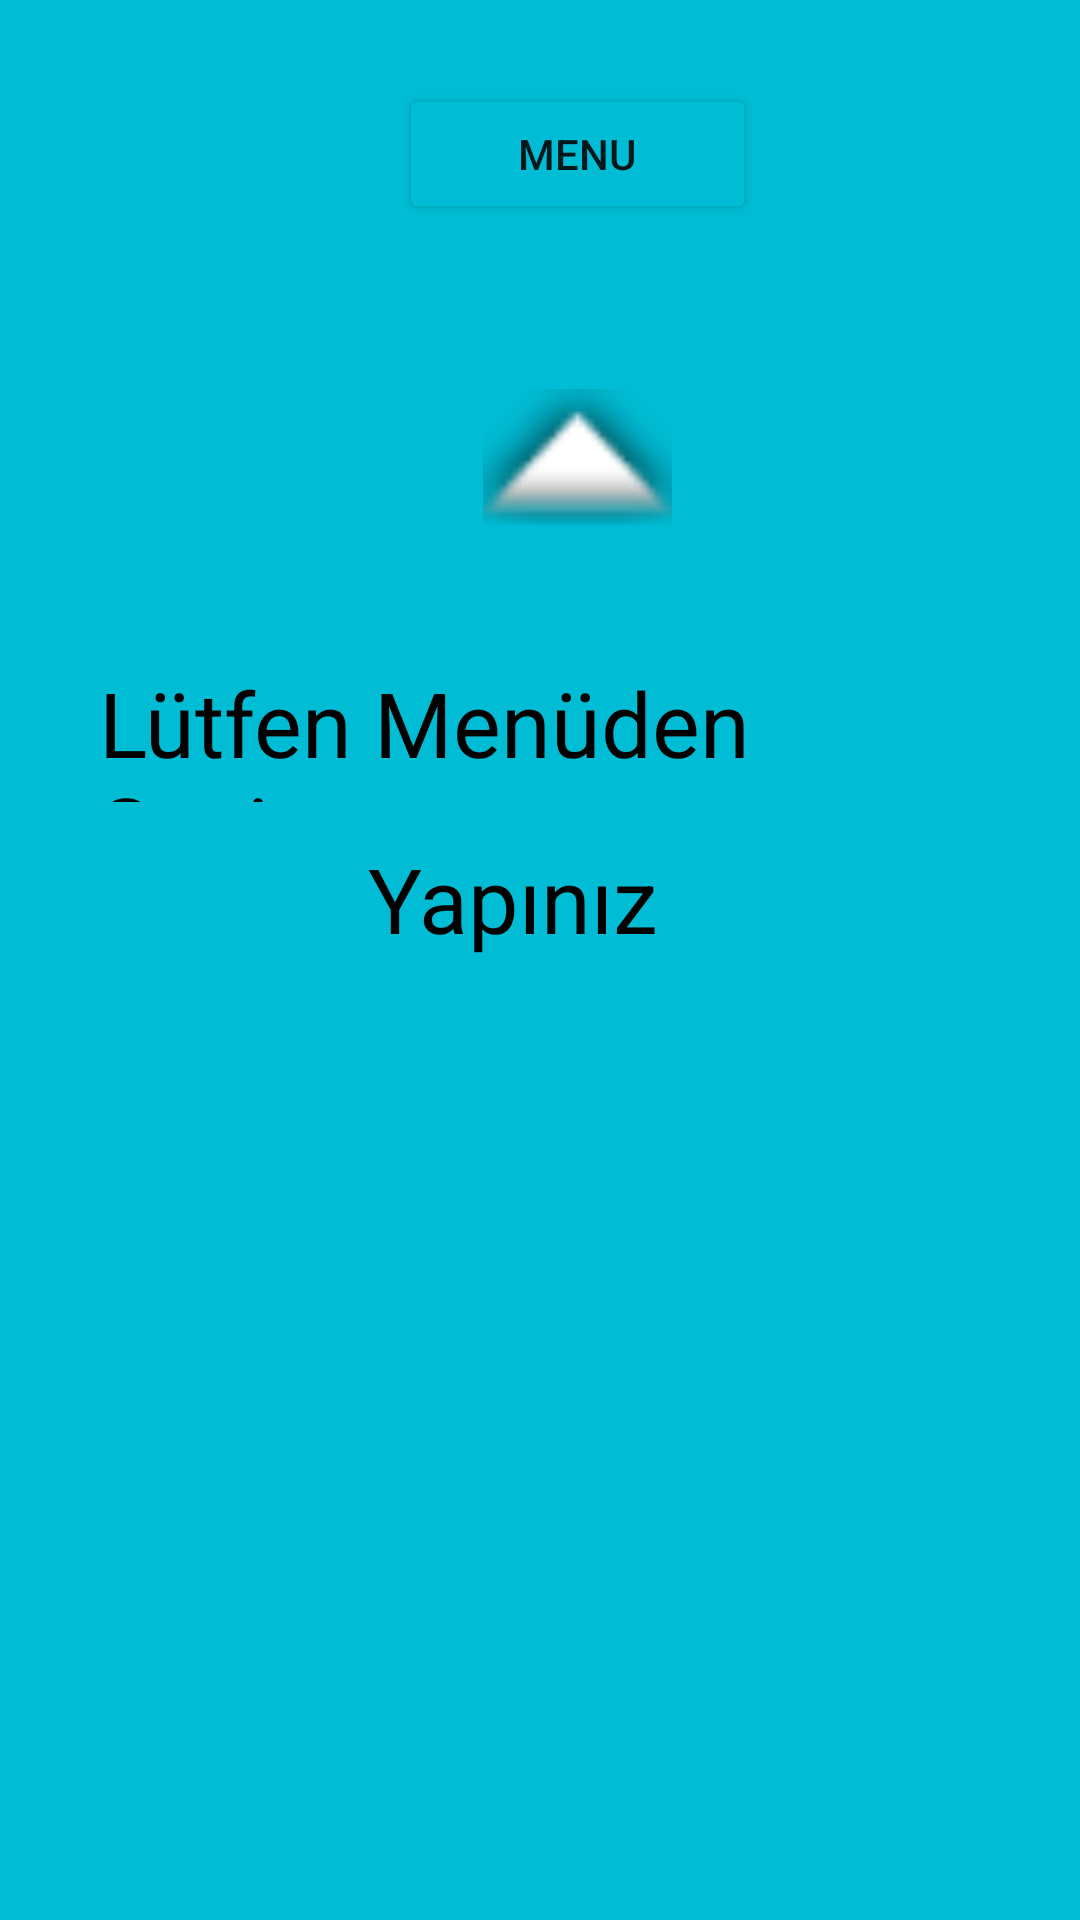

Screen size 1080w x 1920h. Icon name, then its box in pixels as bbox=(x1, y1, x2, y2):
arrow up float: bbox=(483, 396, 672, 521)
